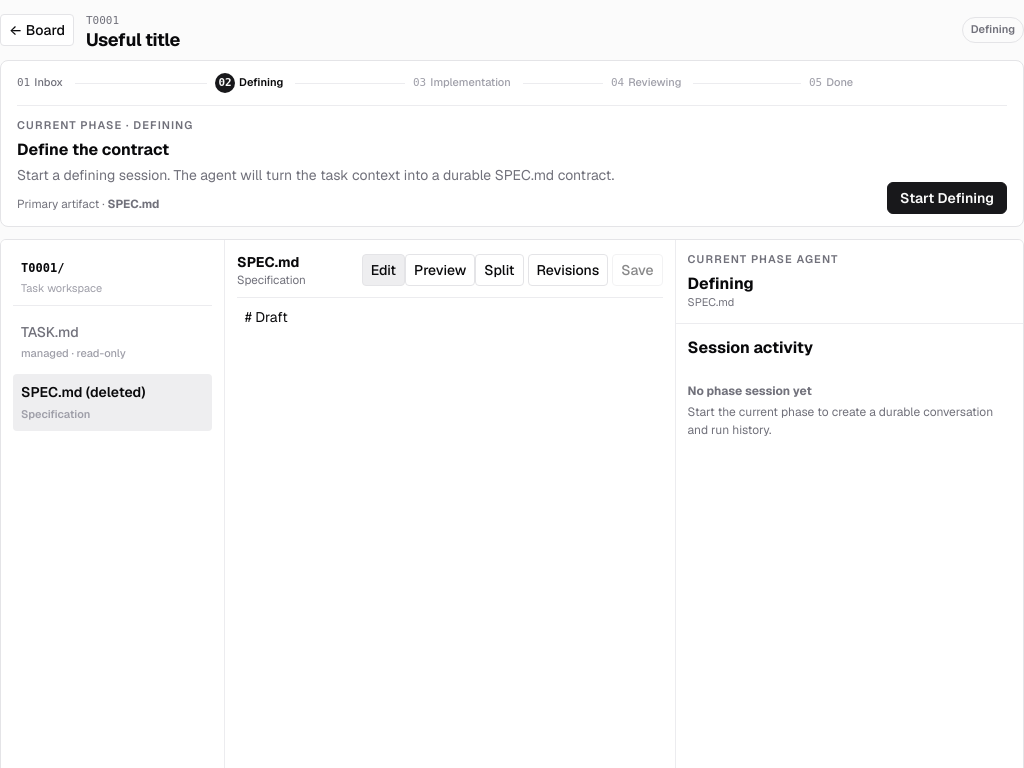
it: deleted restore uses Expected Missing and revision modal traps focus, closes, and returns focus
This screenshot has width=1024, height=768.
Click the button "Revisions": {"x": 568, "y": 270} [528, 254, 608, 286]
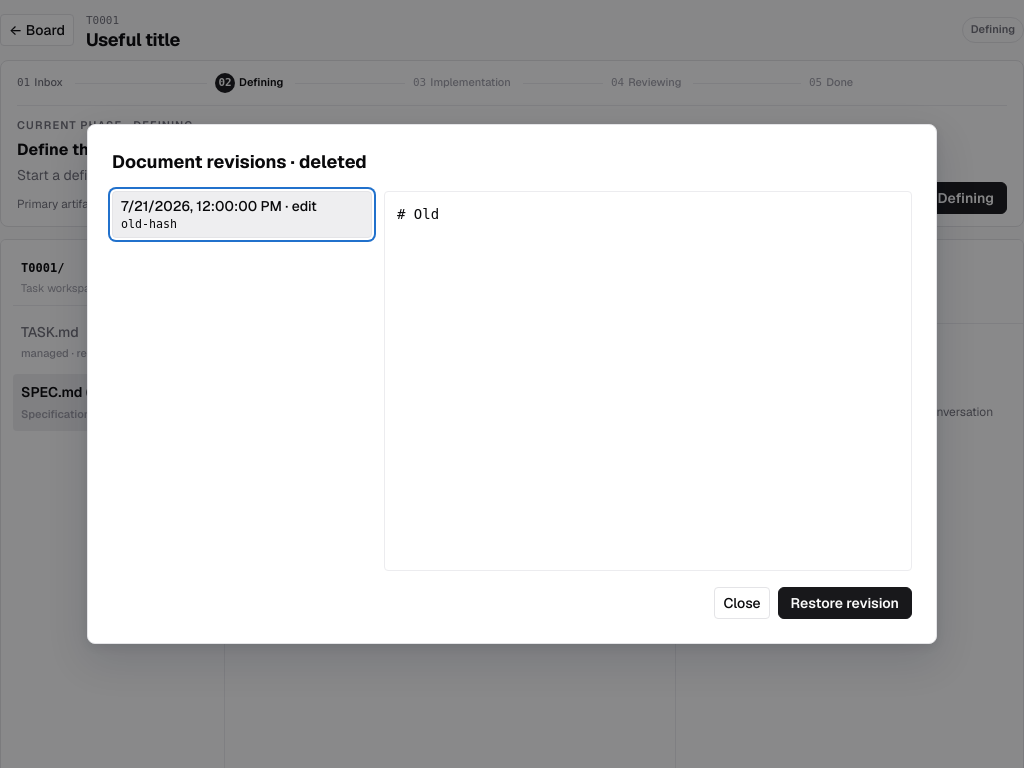
Expected: the heading "Document revisions · deleted" is shown, [112, 150, 367, 173]
Press Shift+Tab
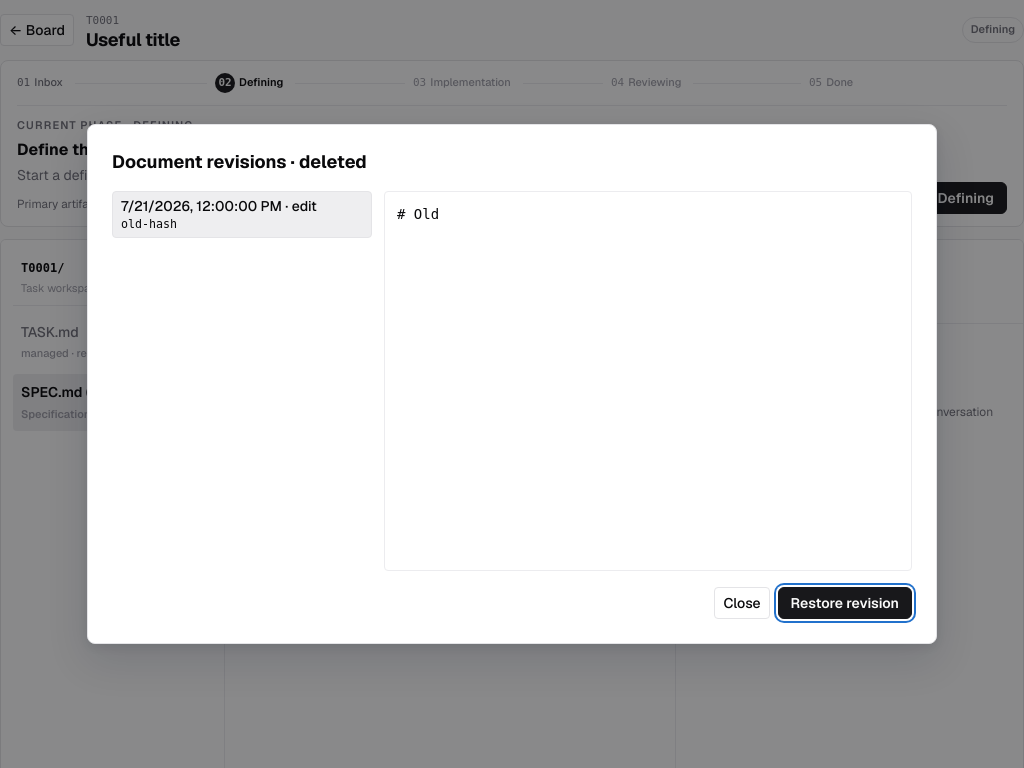
Click the button "Restore revision": {"x": 845, "y": 603} [778, 587, 912, 619]
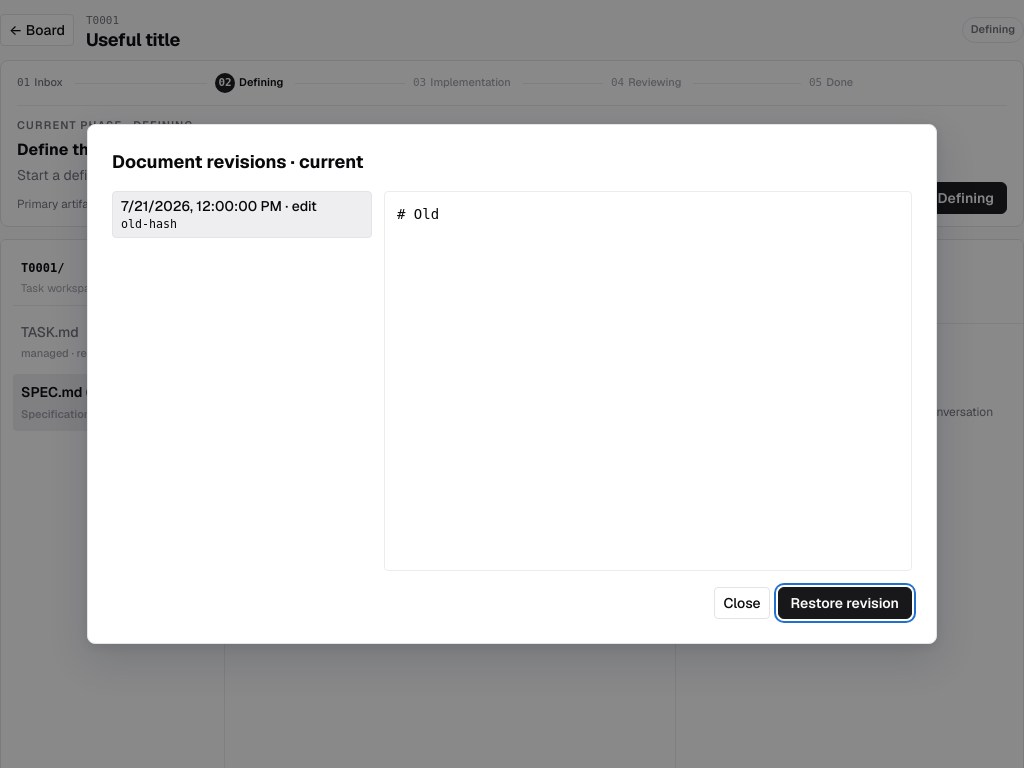
Press Escape
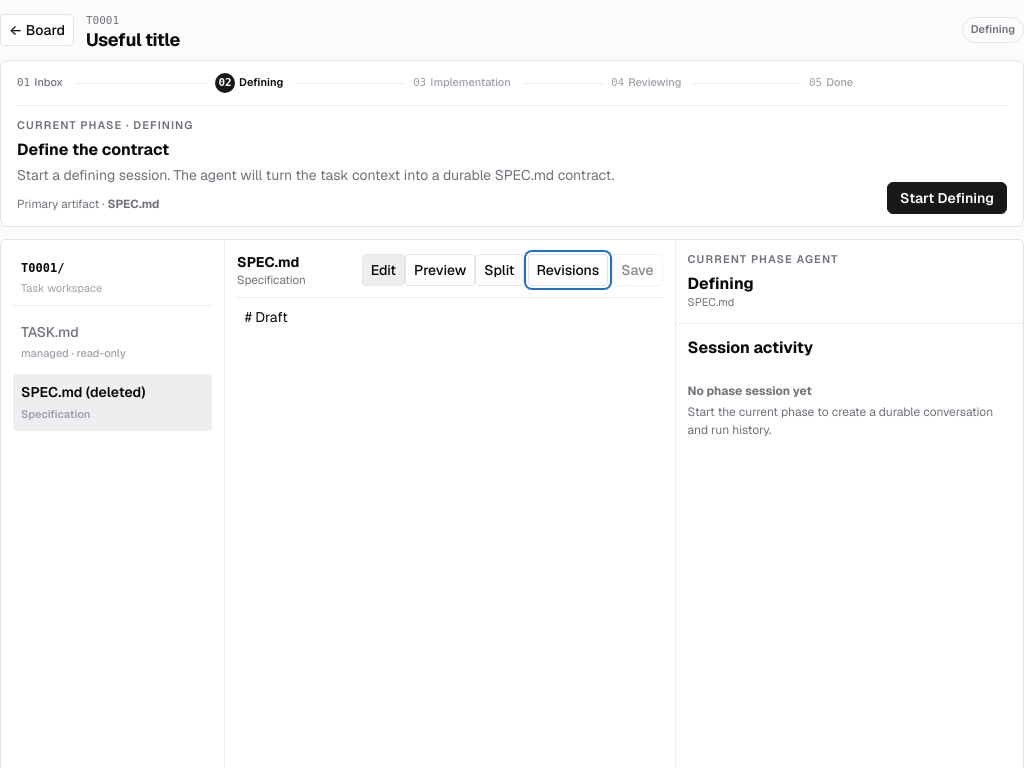
Expected: the dialog is gone
